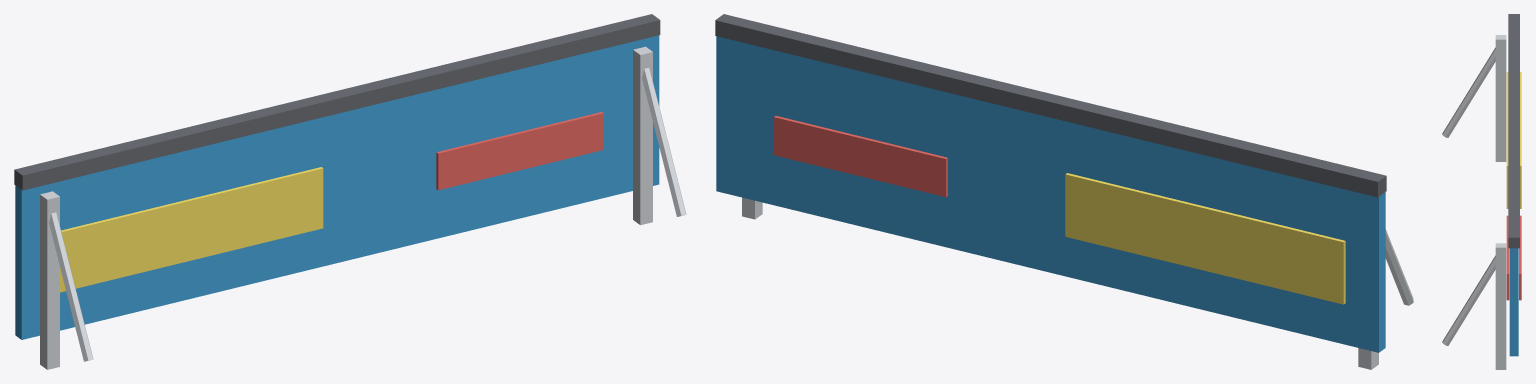
The model's file is go-kart-track-and-pit-lane-barrier-board-with-advertis-5d45b0c9__34339.glb.
The picture shows the model from 3 angles, left to right: view 1: azimuth 30°, elevation 25°; view 2: azimuth 150°, elevation 25°; view 3: azimuth 270°, elevation 25°; orthographic projection. The views are drawn at different scales.
Visible parts, largest first — view 1: barrier-board-with-advertising-azure, barrier-board-with-advertising-canary, barrier-board-with-advertising-charcoal, barrier-board-with-advertising-steel, barrier-board-with-advertising-red; view 2: barrier-board-with-advertising-azure, barrier-board-with-advertising-canary, barrier-board-with-advertising-charcoal, barrier-board-with-advertising-red, barrier-board-with-advertising-steel; view 3: barrier-board-with-advertising-steel, barrier-board-with-advertising-charcoal, barrier-board-with-advertising-azure, barrier-board-with-advertising-canary, barrier-board-with-advertising-red.
Boxes of the visible parts, left/top/right/bottom form: barrier-board-with-advertising-azure: left=15, top=35, right=659, bottom=339; barrier-board-with-advertising-canary: left=60, top=167, right=323, bottom=292; barrier-board-with-advertising-charcoal: left=14, top=14, right=660, bottom=190; barrier-board-with-advertising-steel: left=40, top=46, right=686, bottom=369; barrier-board-with-advertising-red: left=436, top=112, right=603, bottom=190; barrier-board-with-advertising-azure: left=716, top=36, right=1385, bottom=352; barrier-board-with-advertising-canary: left=1065, top=173, right=1345, bottom=304; barrier-board-with-advertising-charcoal: left=715, top=14, right=1386, bottom=197; barrier-board-with-advertising-red: left=773, top=116, right=947, bottom=196; barrier-board-with-advertising-steel: left=742, top=197, right=1413, bottom=369; barrier-board-with-advertising-steel: left=1442, top=35, right=1506, bottom=369; barrier-board-with-advertising-charcoal: left=1508, top=14, right=1519, bottom=248; barrier-board-with-advertising-azure: left=1509, top=248, right=1518, bottom=356; barrier-board-with-advertising-canary: left=1506, top=72, right=1521, bottom=208; barrier-board-with-advertising-red: left=1506, top=215, right=1521, bottom=300.
Size of the model in its own units: 4 by 1.15 by 0.5985.
